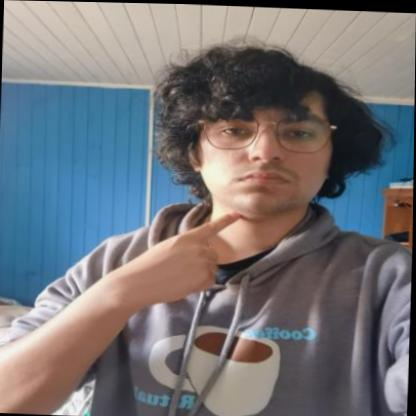Q: (117, 206, 242, 297)
